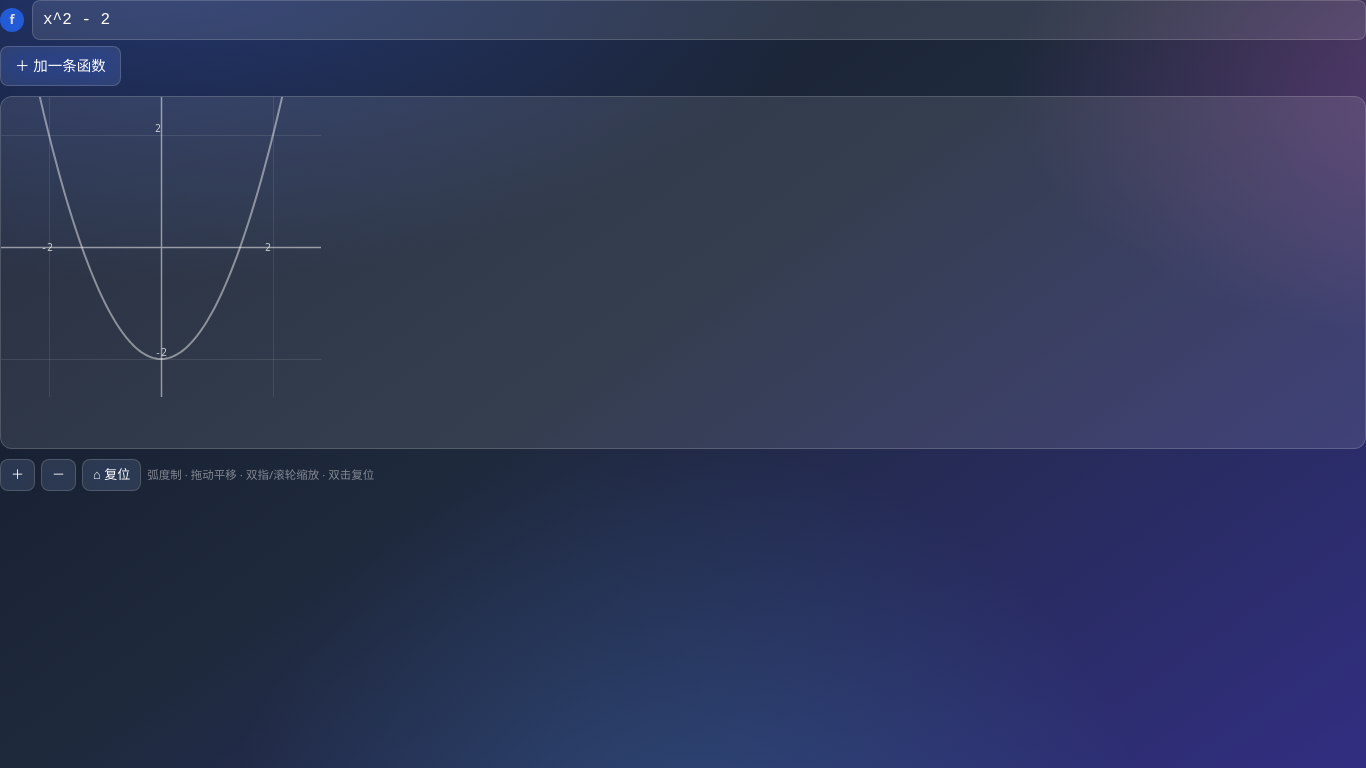
Scenario: 函数绘图界面 › 输入非法表达式显示中文错误
Replace the text in the field named "函数 f 表达式" with "y + 1": (699, 20) [32,0,1365,40]
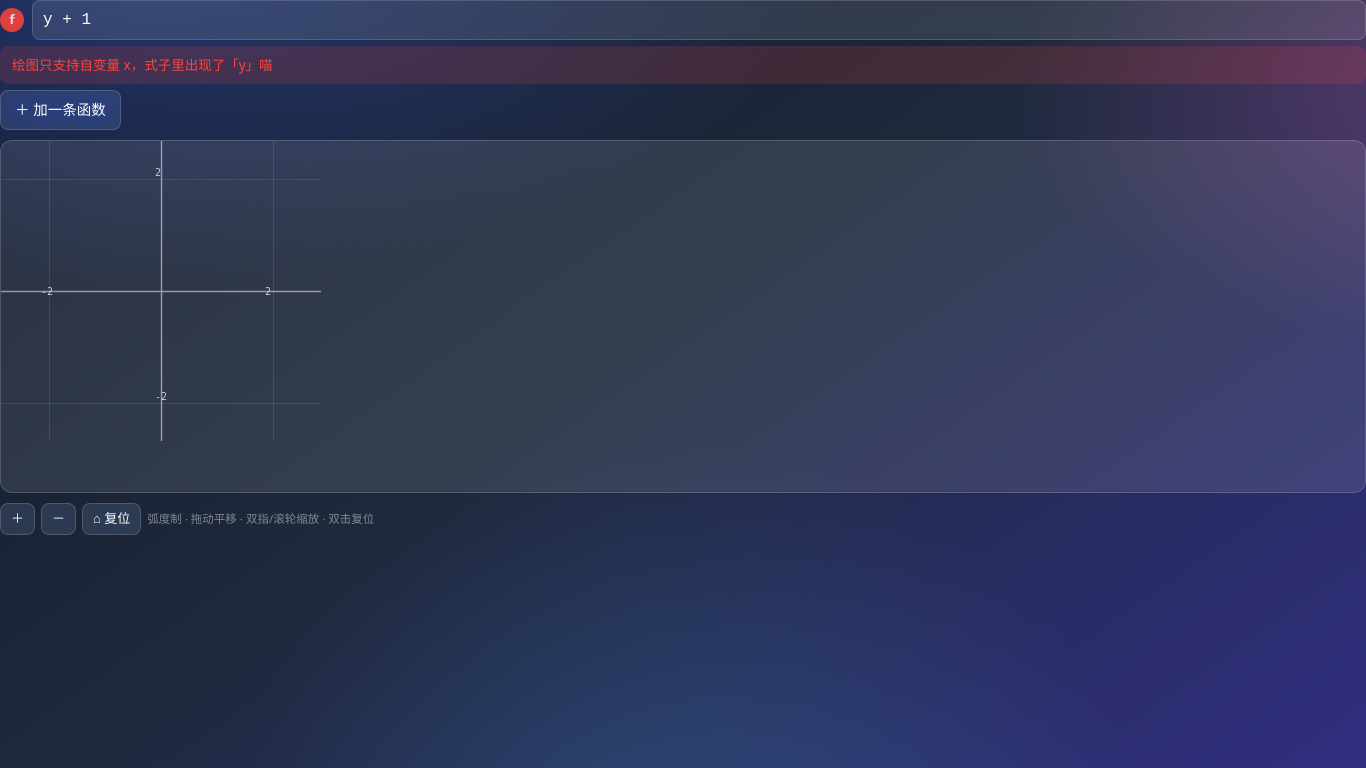
Result: the text "绘图只支持自变量 x，式子里出现了「y」喵" is shown at [0,46,1365,84]
